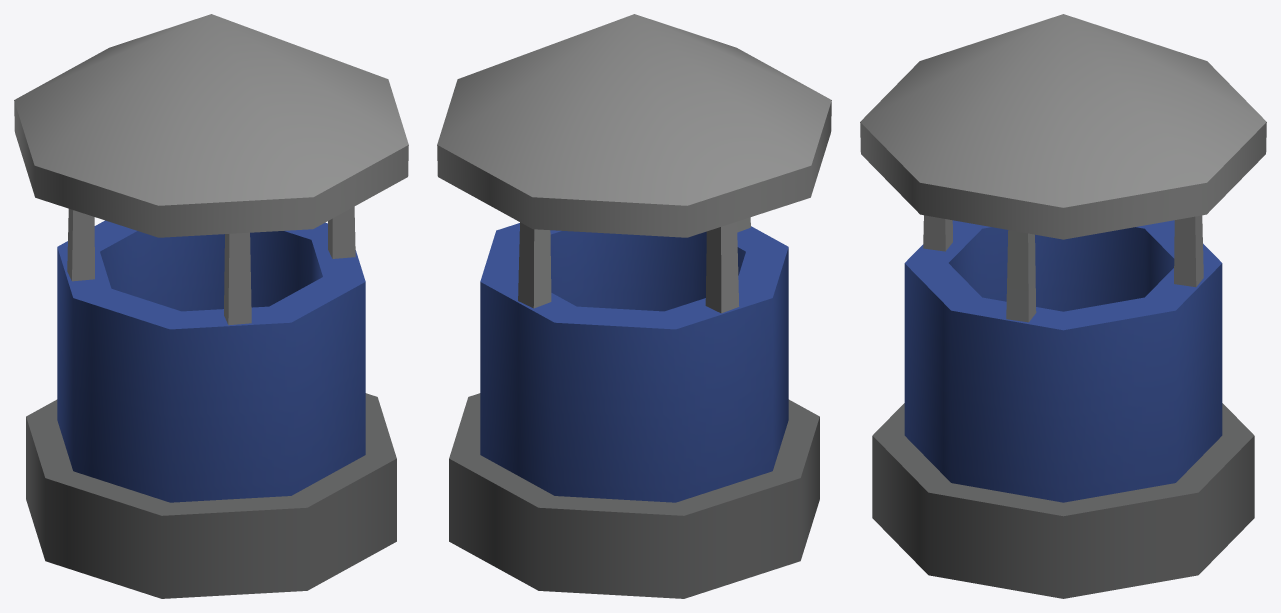
The model's file is Chimney_1_D_5.fbx.
3 views of the same model, side by side, from view 1: azimuth 30°, elevation 25°; view 2: azimuth 150°, elevation 25°; view 3: azimuth 270°, elevation 25° (orthographic).
Visible parts, largest first — view 1: Chimney_1_D_5; view 2: Chimney_1_D_5; view 3: Chimney_1_D_5.
Boxes of the visible parts, x1=… form: Chimney_1_D_5: x1=14, y1=14, x2=408, y2=598; Chimney_1_D_5: x1=437, y1=14, x2=831, y2=598; Chimney_1_D_5: x1=860, y1=14, x2=1266, y2=598.
Bounding box in the file's own units: 49.17 × 67.27 × 49.17.
